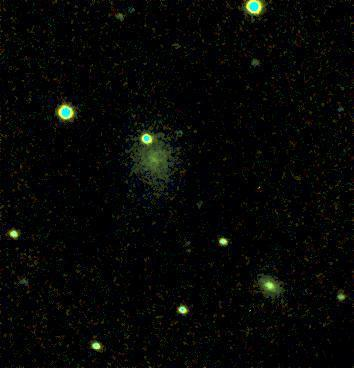star: (172, 233, 202, 263)
